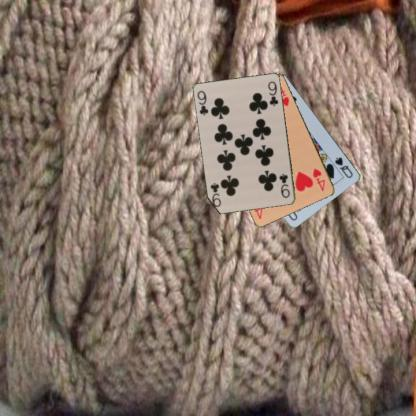4h: (310, 166, 326, 192)
9c: (194, 88, 210, 117), (277, 171, 291, 199)
Qs: (332, 154, 354, 179)
